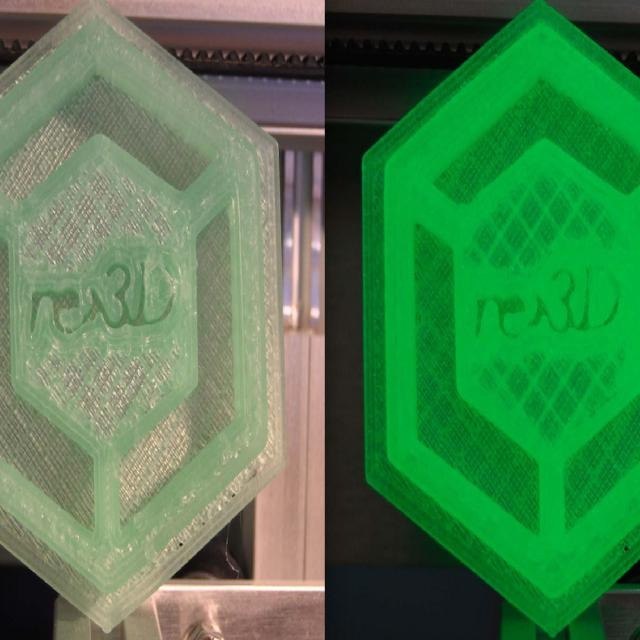Without deffect: (0, 1, 297, 640)
